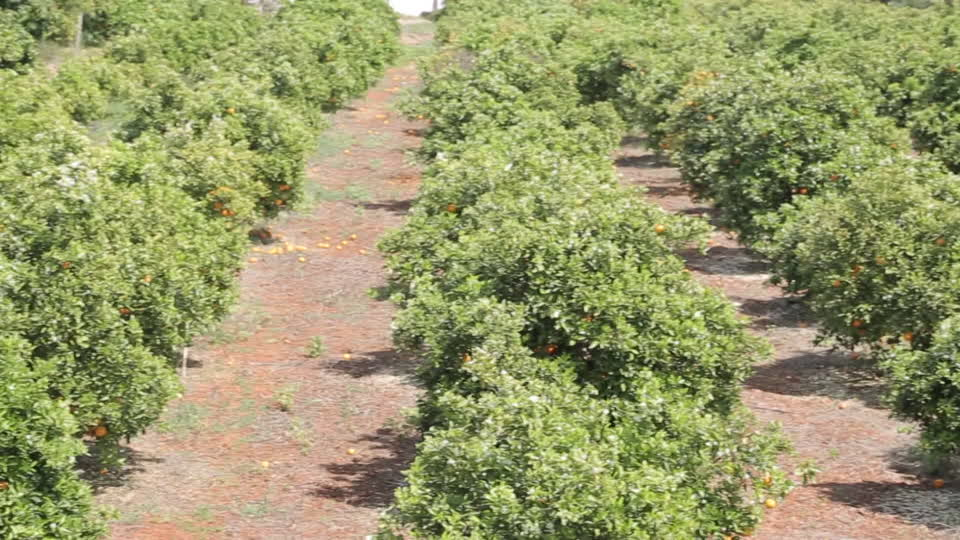orange: (763, 497, 777, 511), (655, 222, 668, 236), (225, 104, 238, 117), (460, 351, 472, 365), (118, 305, 130, 317), (446, 203, 458, 214), (95, 427, 106, 439), (826, 170, 839, 180), (62, 259, 73, 270), (904, 330, 914, 342), (936, 238, 948, 248), (280, 184, 291, 194), (854, 318, 865, 328), (142, 274, 154, 283), (546, 343, 555, 354), (834, 278, 845, 287), (799, 186, 808, 196), (275, 199, 283, 207)
